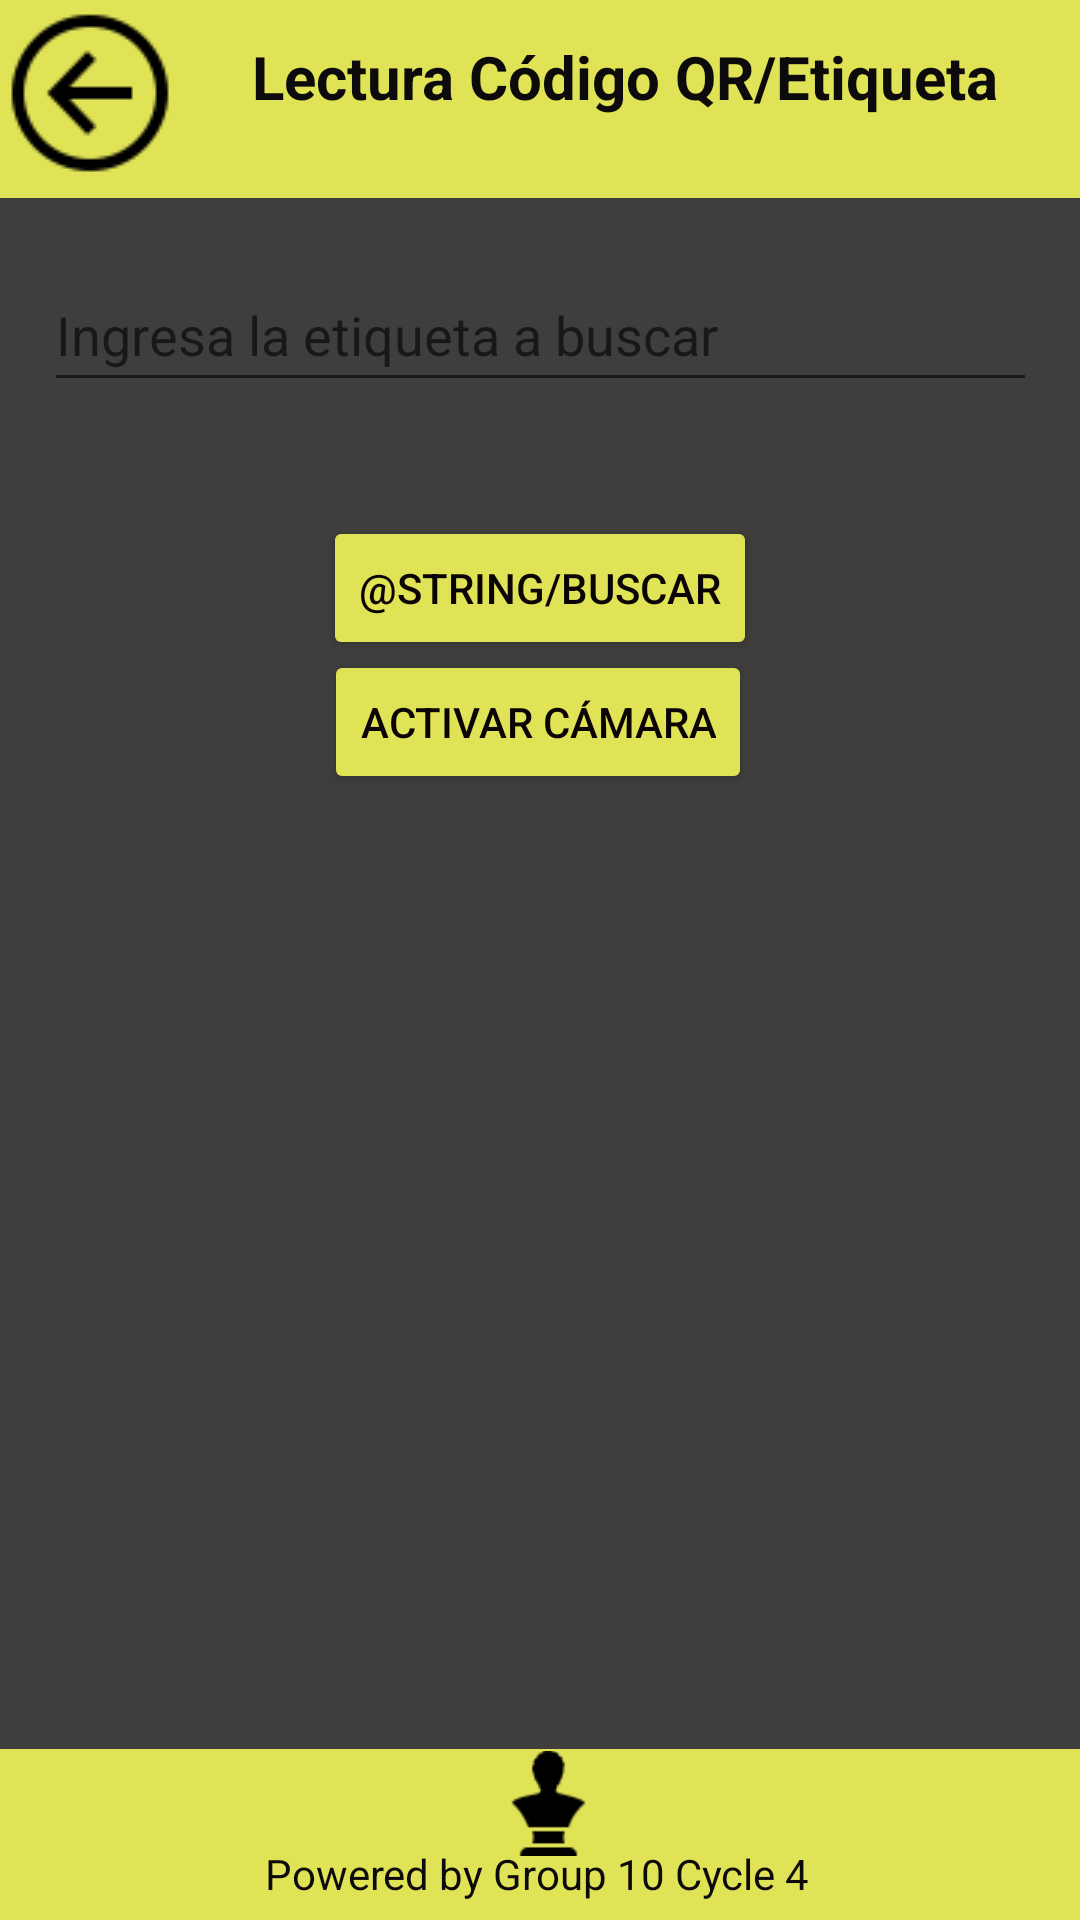

Icons on this 1080px×1920px Android screen, each with its box as (x1, y1, x2, y2):
busto: (511, 1751, 586, 1856)
izquierda en rculo: (11, 14, 169, 172)
